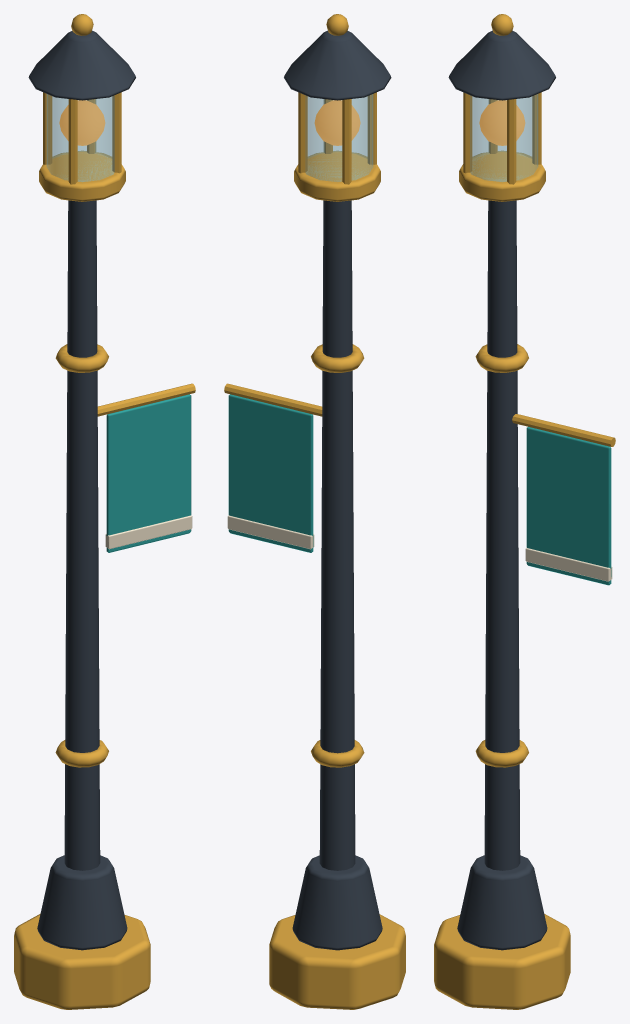
The model's file is lamp_post.glb.
3 renders of one model, left to right at view 1: azimuth 30°, elevation 25°; view 2: azimuth 150°, elevation 25°; view 3: azimuth 330°, elevation 25°, orthographic.
Parts seen in each view (by area): view 1: lamp_post_body; view 2: lamp_post_body; view 3: lamp_post_body.
Part boxes in pixels (<box>): lamp_post_body: <box>14,14,195,1009</box>; lamp_post_body: <box>224,14,405,1009</box>; lamp_post_body: <box>434,14,615,1009</box>.
Size of the model in its own units: 0.7752 by 4.18 by 0.5485.
